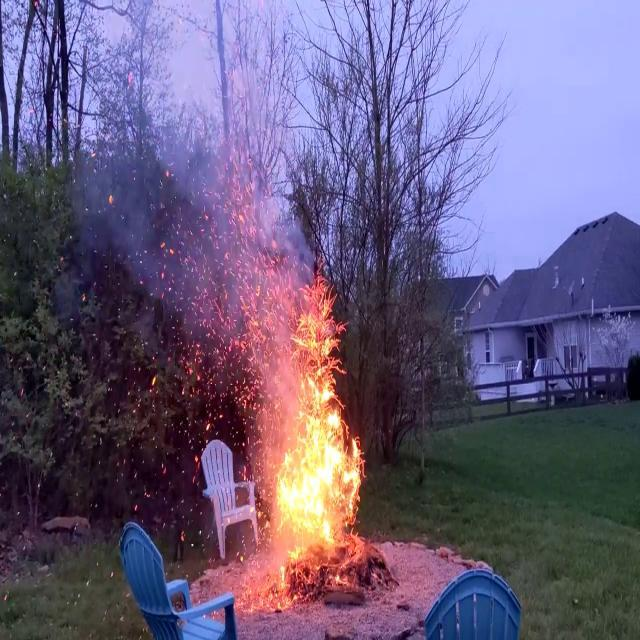Fire: (268, 274, 368, 554)
Smoke: (59, 8, 313, 328)
